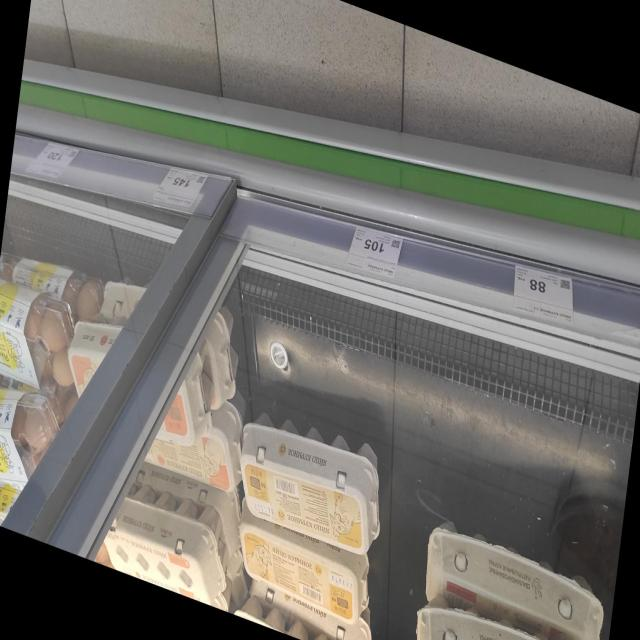organic waste: (233, 397, 392, 562), (230, 506, 378, 635), (406, 580, 608, 640)
